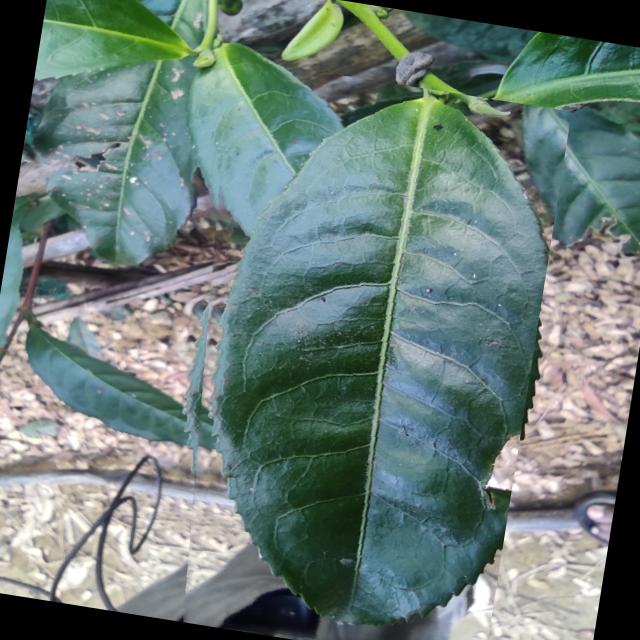Category D(7+ days, Not for Tea): (142, 57, 572, 640)
